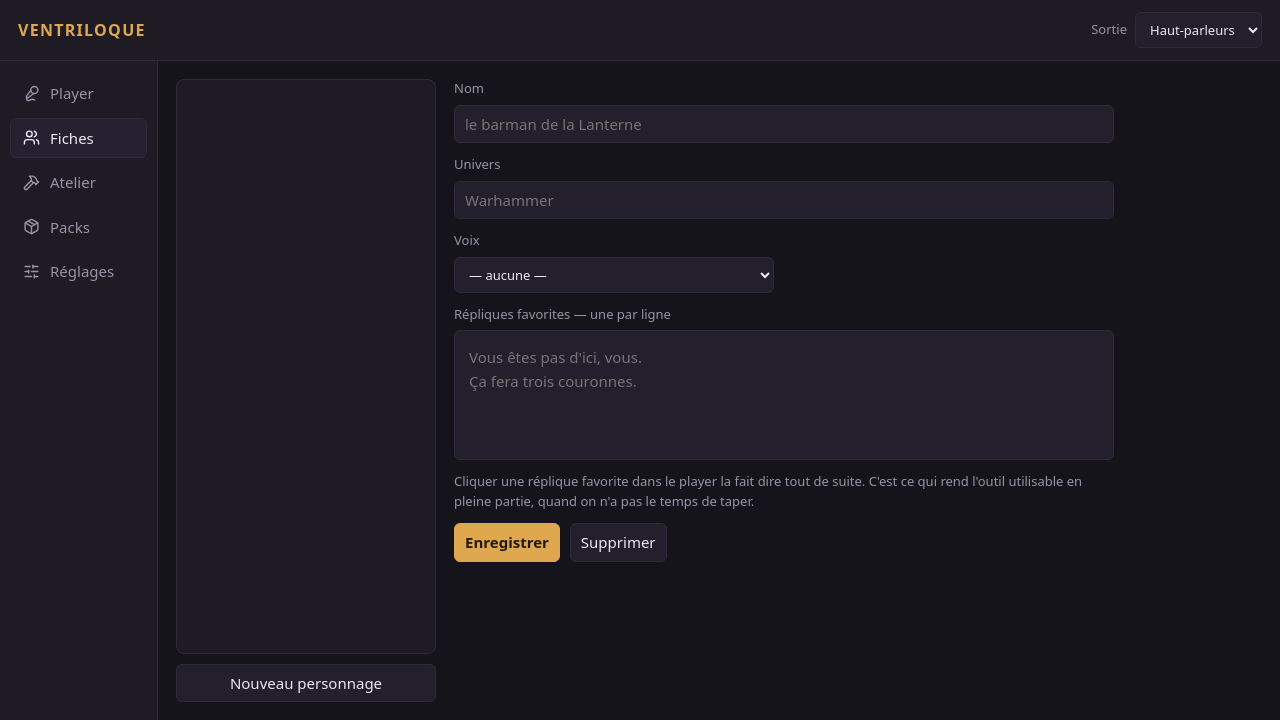
Test: l'etat est relu, pas tenu › une fiche enregistree passe par le disque avant de revenir dans la fenetre
Type "Le barman" into the field labelled "Nom" at (784, 124), box top-left (454, 104), bottom-right (1114, 143)
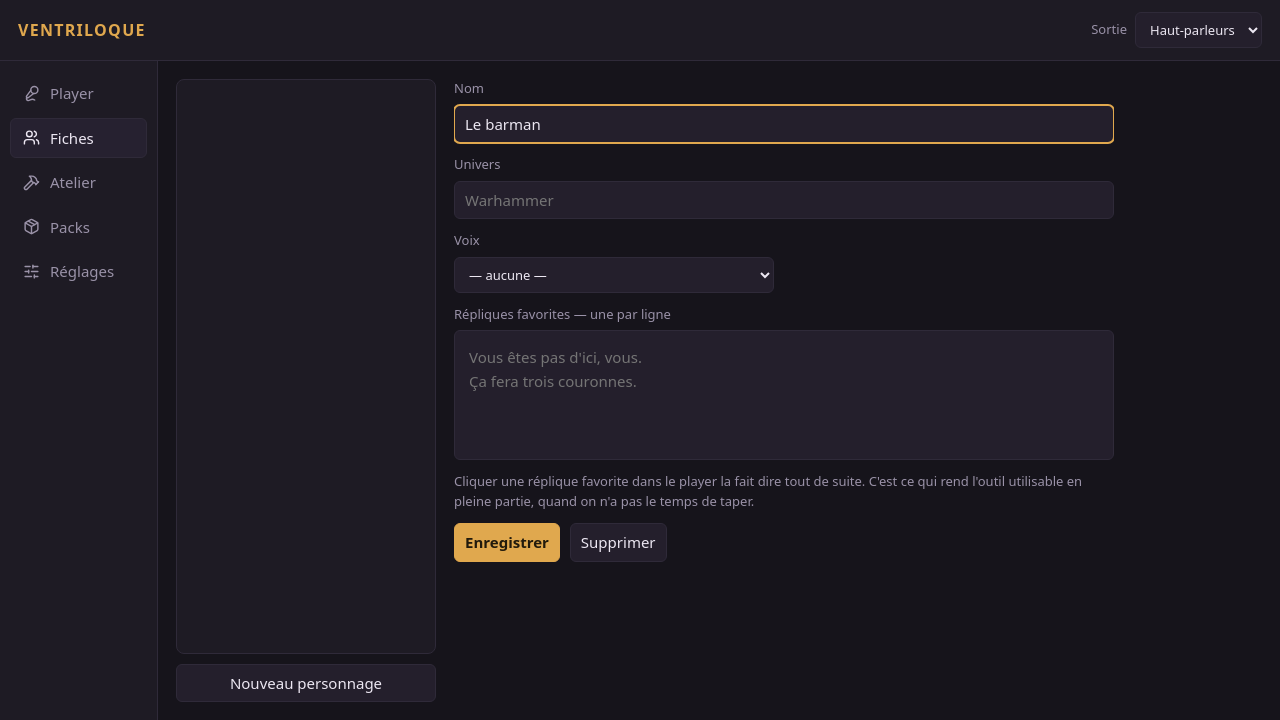
Click the button "Enregistrer" at (507, 542), box top-left (454, 523), bottom-right (560, 562)
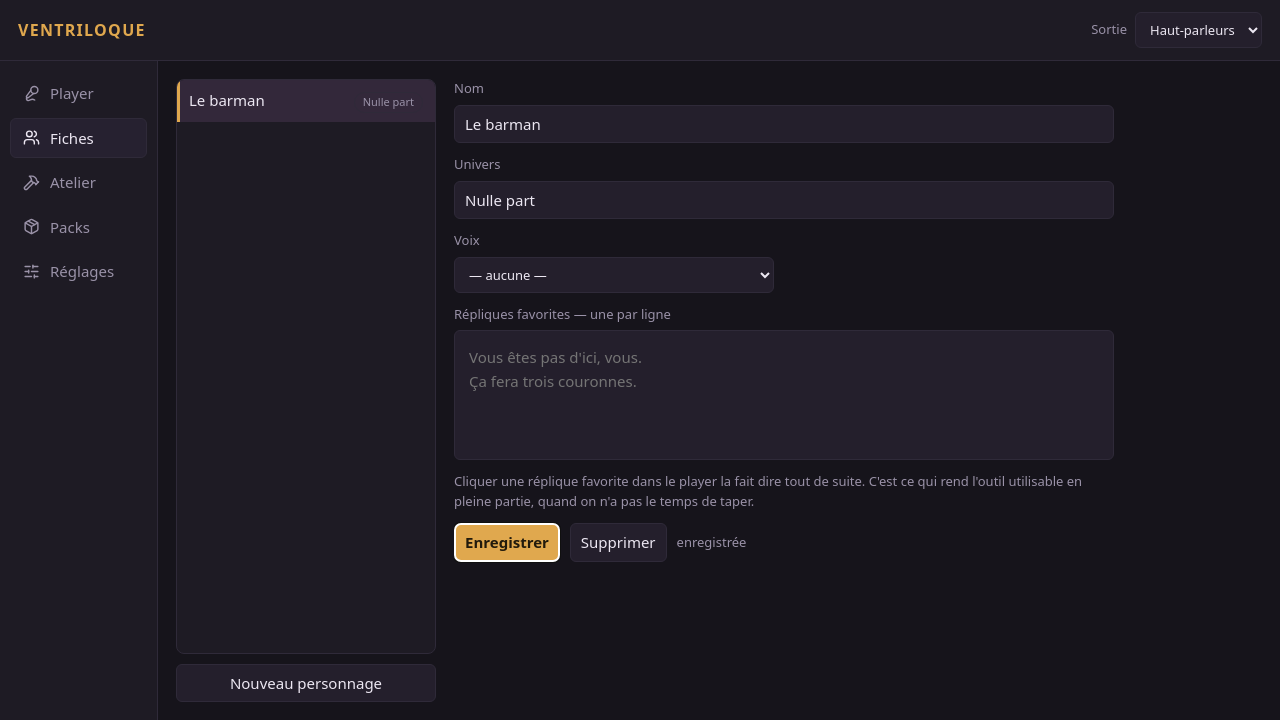
expect the list item "Le barman" is shown: met, box top-left (189, 90), bottom-right (265, 110)
